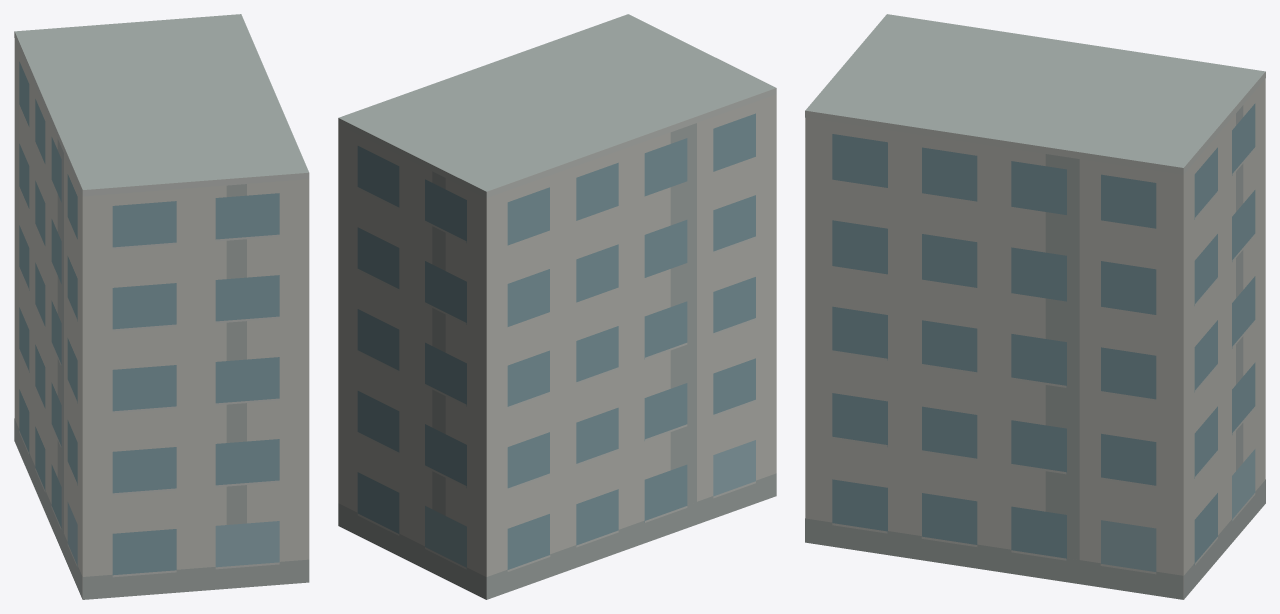
The model's file is residential-a9c1b750-4864-4ffc-9936-7d90446d75da.glb.
3 renders of one model, left to right at view 1: azimuth 30°, elevation 25°; view 2: azimuth 150°, elevation 25°; view 3: azimuth 270°, elevation 25°, orthographic. The views are drawn at different scales.
Visible parts, largest first — view 1: residential-a9c1b750-4864-4ffc-9936-7d90446d75da.tmp; view 2: residential-a9c1b750-4864-4ffc-9936-7d90446d75da.tmp; view 3: residential-a9c1b750-4864-4ffc-9936-7d90446d75da.tmp.
Boxes of the visible parts, x1=… form: residential-a9c1b750-4864-4ffc-9936-7d90446d75da.tmp: x1=14, y1=14, x2=309, y2=599; residential-a9c1b750-4864-4ffc-9936-7d90446d75da.tmp: x1=338, y1=14, x2=776, y2=599; residential-a9c1b750-4864-4ffc-9936-7d90446d75da.tmp: x1=805, y1=14, x2=1265, y2=599.
Size of the model in its own units: 11.67 by 15.25 by 14.75.
